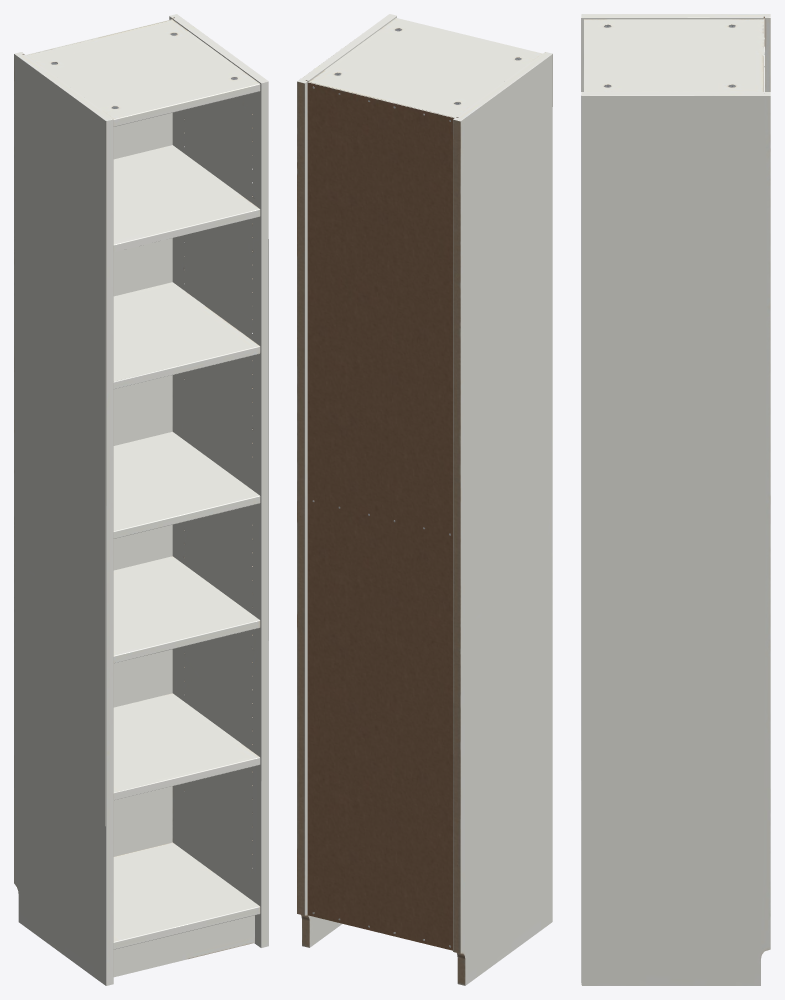
The model's file is billy_rega_10401931.glb.
3 renders of one model, left to right at view 1: azimuth 30°, elevation 25°; view 2: azimuth 150°, elevation 25°; view 3: azimuth 270°, elevation 25°, orthographic. The views are drawn at different scales.
Visible parts, largest first — view 1: billy_rega_10401931; view 2: billy_rega_10401931; view 3: billy_rega_10401931.
Part boxes in pixels (box(x1,y1,x2,y2)): billy_rega_10401931: box(14, 14, 268, 985); billy_rega_10401931: box(297, 14, 552, 985); billy_rega_10401931: box(581, 14, 770, 985).
Size of the model in its own units: 0.3985 by 2.02 by 0.39.
1 material, 1 textured.
